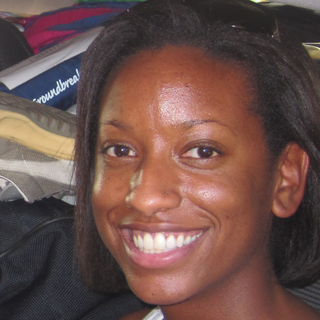eye: (169, 139, 229, 164), (96, 138, 143, 166)
